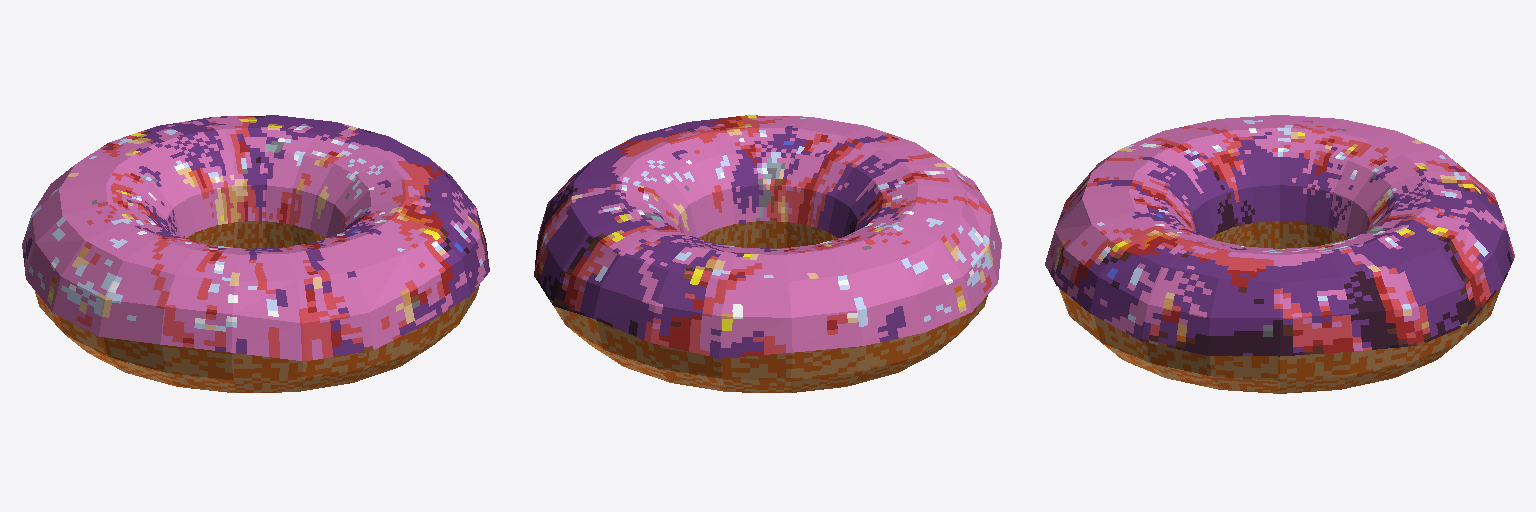
3 renders of one model, left to right at view 1: azimuth 30°, elevation 25°; view 2: azimuth 150°, elevation 25°; view 3: azimuth 270°, elevation 25°, orthographic.
Visible parts, largest first — view 1: doughnut_ps_baked; view 2: doughnut_ps_baked; view 3: doughnut_ps_baked.
Part boxes in pixels (x1,y1,x2,y2): doughnut_ps_baked: (22,115,489,392); doughnut_ps_baked: (534,115,1001,392); doughnut_ps_baked: (1045,115,1514,393).
Size of the model in its own units: 1.28 by 0.3887 by 1.28.
1 materials, 1 textured.